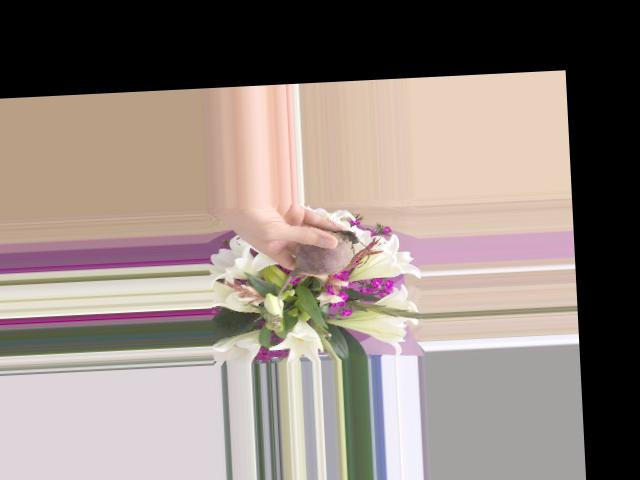beet: (274, 228, 372, 308)
